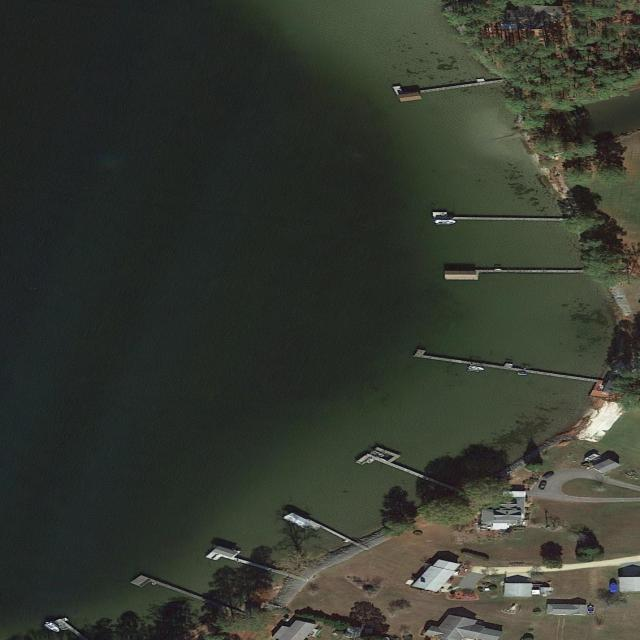ship: (41, 621, 63, 634), (582, 452, 603, 463), (465, 365, 486, 372), (435, 220, 458, 225), (608, 584, 618, 593), (587, 605, 596, 615)
small-vehicle: (539, 470, 558, 481), (537, 480, 549, 491)
